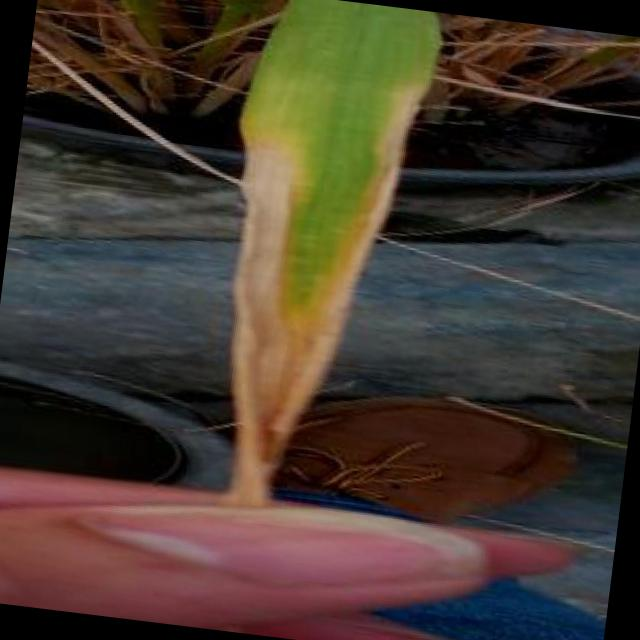Rice_Bacterial_Blight: (188, 20, 425, 502)
